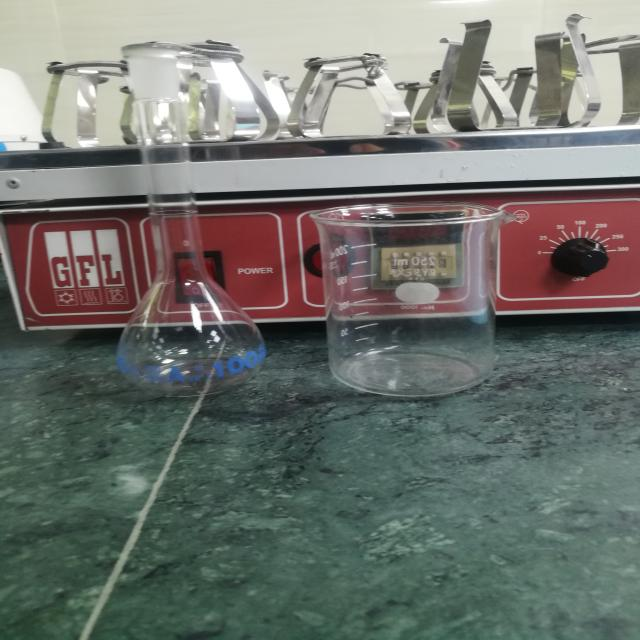Beaker: (286, 183, 540, 408)
Volumetric_Flask: (35, 28, 287, 417)
